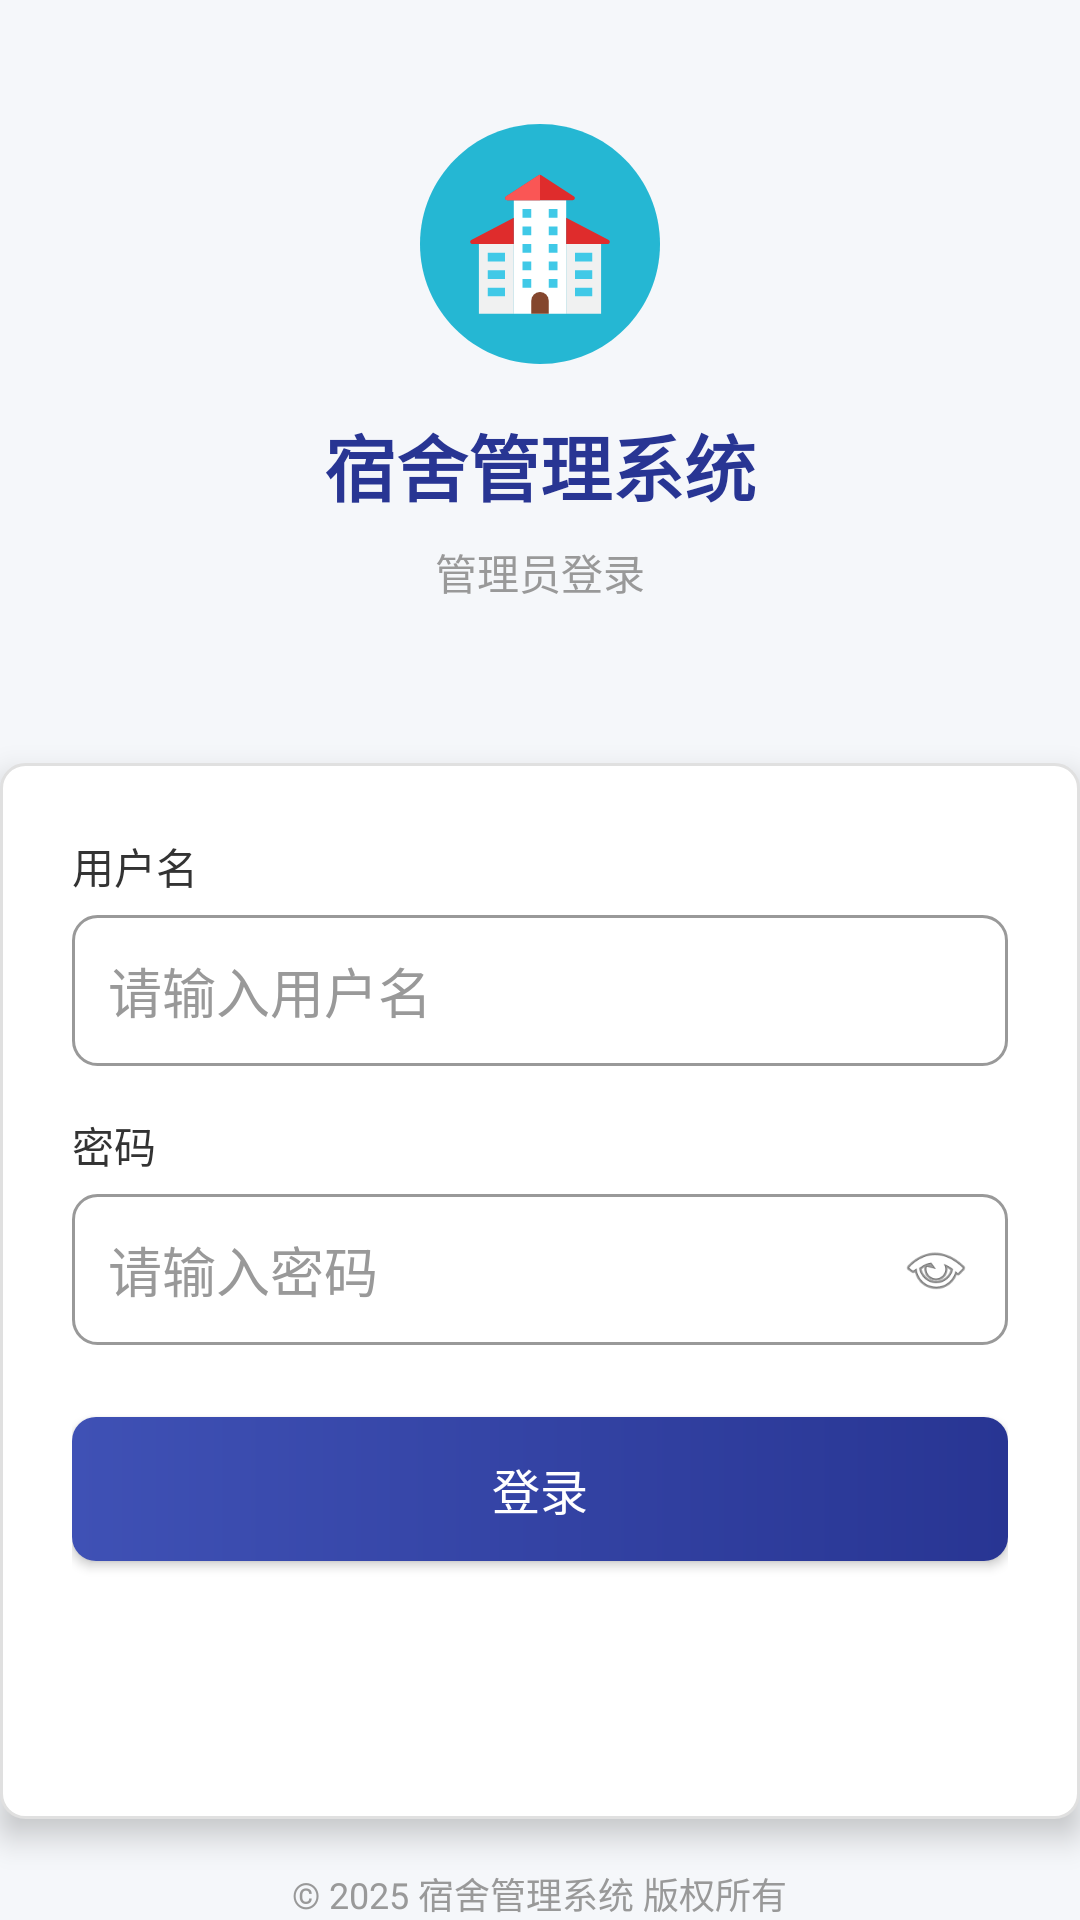

Locate icon controls on the screen. Image size 1080 × 1920, boxes as (x1, y1, x2, y2).
view: (907, 1252, 965, 1289)
